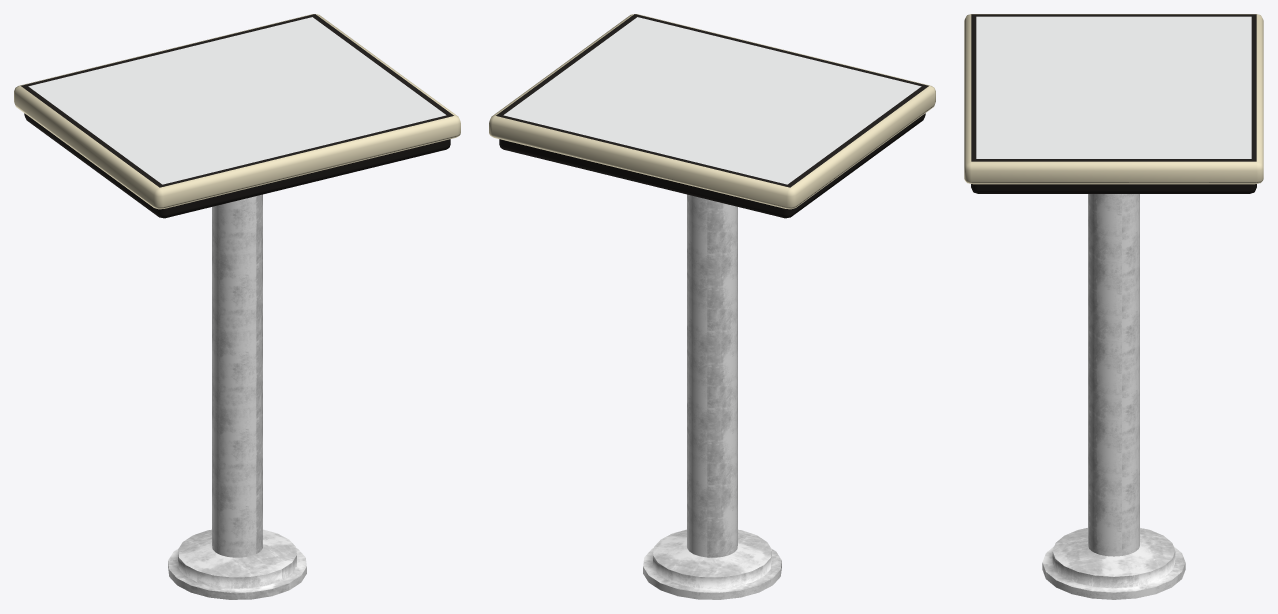
File: Tall Table.fbx
3 renders of one model, left to right at view 1: azimuth 30°, elevation 25°; view 2: azimuth 150°, elevation 25°; view 3: azimuth 270°, elevation 25°, orthographic. The views are drawn at different scales.
Visible parts, largest first — view 1: Tall Table; view 2: Tall Table; view 3: Tall Table.
Part boxes in pixels (x1,y1,x2,y2): Tall Table: (14, 14, 460, 599); Tall Table: (489, 14, 935, 599); Tall Table: (964, 14, 1263, 599).
Bounding box in the file's own units: 58.36 × 85.55 × 48.16.
